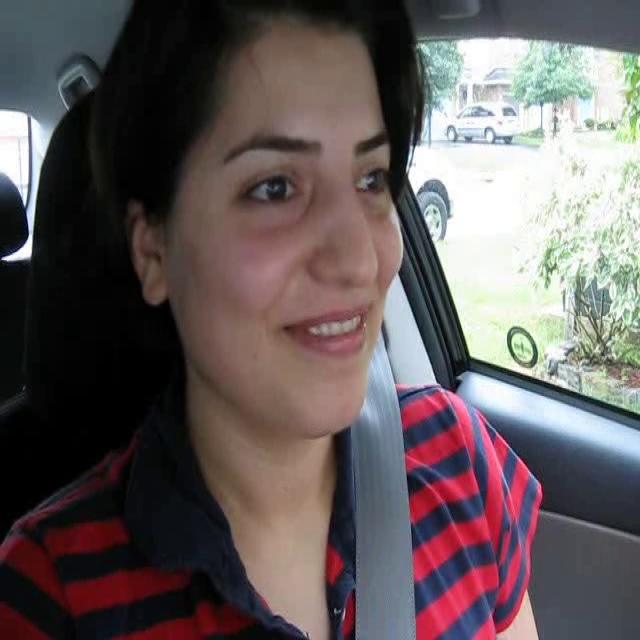close: (277, 303, 370, 358)
